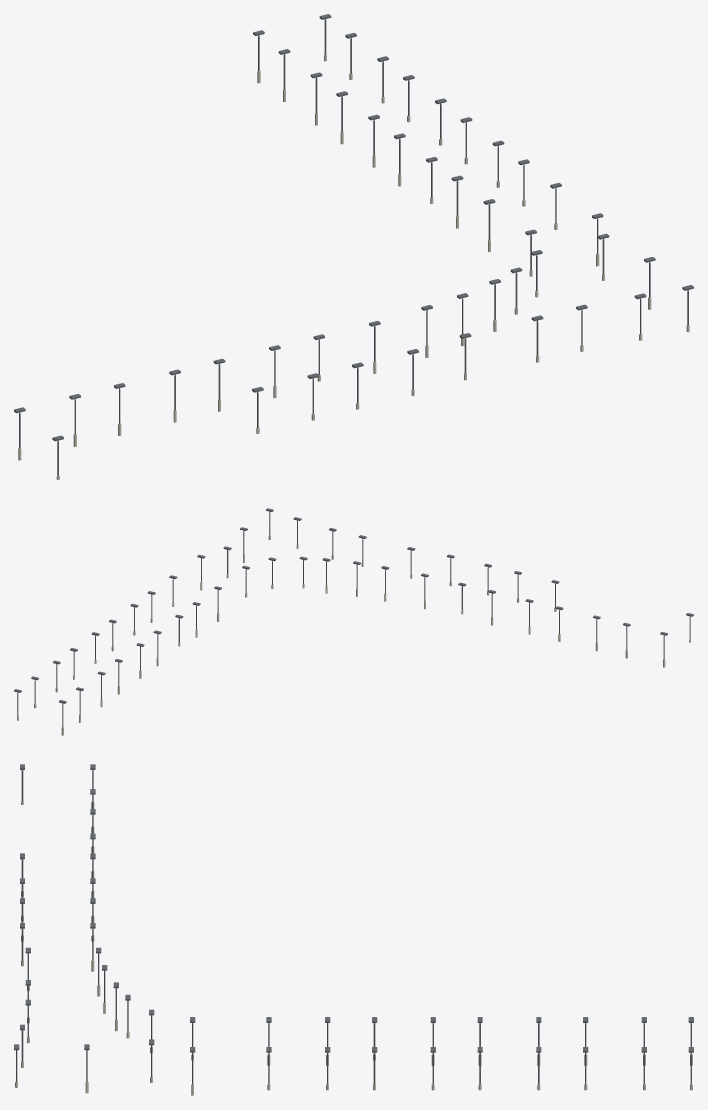
The picture shows the model from 3 angles, top to bottom: view 1: azimuth 30°, elevation 25°; view 2: azimuth 150°, elevation 25°; view 3: azimuth 270°, elevation 25°; orthographic projection. The views are drawn at different scales.
Visible parts, largest first — view 1: buildings_s_-11_1_Dark_Metal, buildings_s_-11_1_Warm_Limestone; view 2: buildings_s_-11_1_Dark_Metal, buildings_s_-11_1_Warm_Limestone; view 3: buildings_s_-11_1_Dark_Metal, buildings_s_-11_1_Warm_Limestone.
Part boxes in pixels (x1,y1,x2,y2): buildings_s_-11_1_Dark_Metal: (14, 14, 693, 476); buildings_s_-11_1_Warm_Limestone: (18, 54, 689, 479); buildings_s_-11_1_Dark_Metal: (14, 508, 693, 727); buildings_s_-11_1_Warm_Limestone: (17, 535, 690, 735); buildings_s_-11_1_Dark_Metal: (14, 764, 693, 1084); buildings_s_-11_1_Warm_Limestone: (15, 801, 692, 1095).
Size of the model in its own units: 116 by 8.68 by 116.
